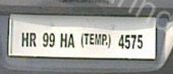4: (118, 34, 125, 49)
5: (137, 34, 144, 50), (125, 34, 131, 49)
7: (131, 35, 137, 49)
9: (42, 32, 49, 48), (49, 33, 56, 48)
A: (68, 33, 75, 49)
E: (89, 33, 95, 45)
H: (60, 32, 68, 48), (21, 32, 29, 47)
M: (95, 33, 102, 46)
P: (101, 34, 108, 46)
R: (30, 32, 37, 47)
T: (84, 33, 89, 45)
